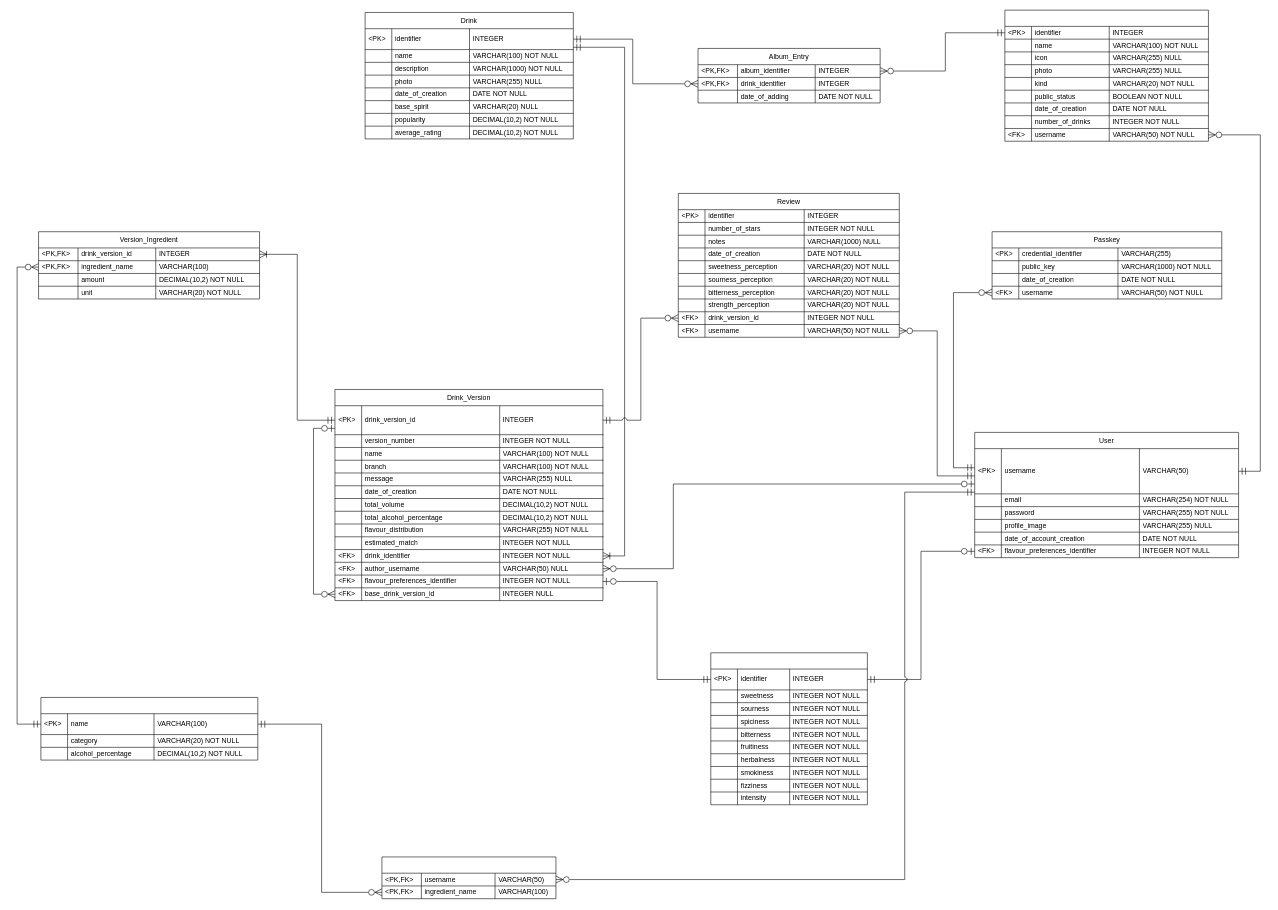
This 1278x910 diagram has some shape labels left out. Each missing label, with the box of its shape:
Album: (1004, 10, 1208, 141)
Flavour_Preferences: (710, 652, 867, 805)
Ingredient: (40, 697, 258, 760)
Liked_Ingredient: (381, 856, 556, 899)
